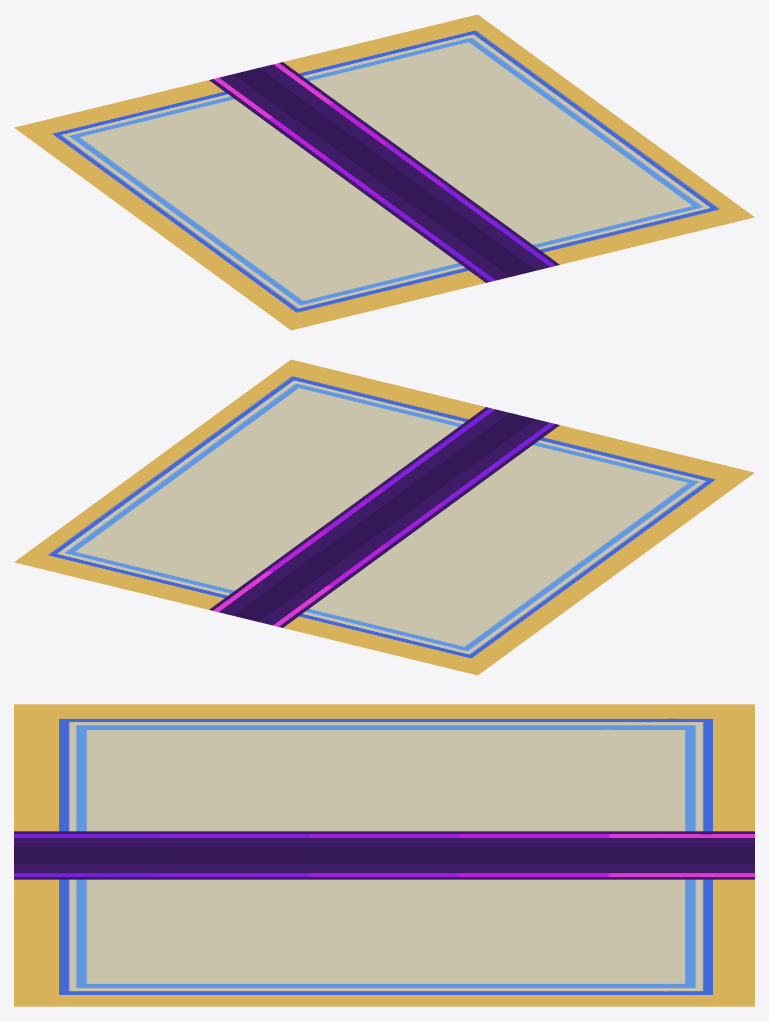
The model's file is PapaceGround.fbx.
3 views of the same model, one above another, from view 1: azimuth 30°, elevation 25°; view 2: azimuth 150°, elevation 25°; view 3: azimuth 270°, elevation 25° (orthographic). The views are drawn at different scales.
Visible parts, largest first — view 1: PalaceGround; view 2: PalaceGround; view 3: PalaceGround.
Part boxes in pixels (box(x1,y1,x2,y2)): PalaceGround: box(14, 14, 754, 330); PalaceGround: box(14, 359, 754, 675); PalaceGround: box(14, 704, 754, 1006).
Bounding box in the file's own units: 9234 × 0.00156 × 9556.
